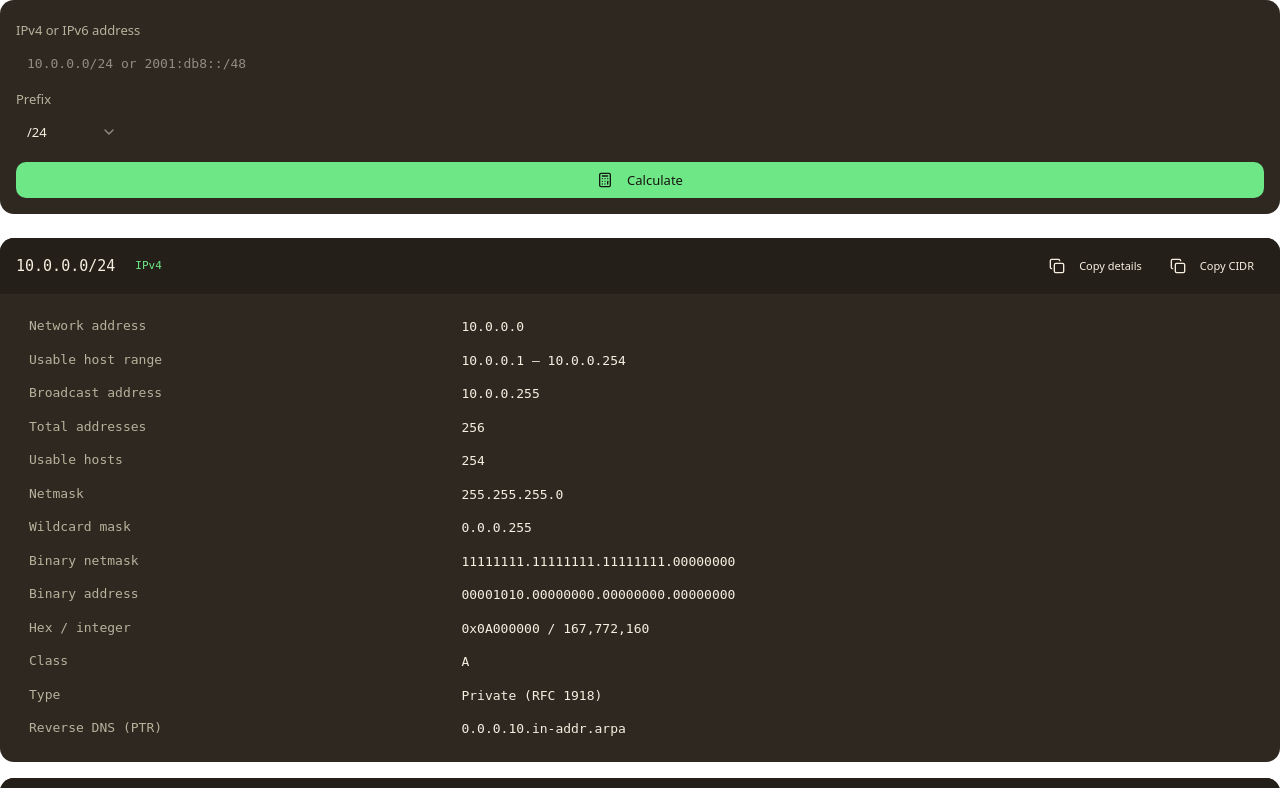
Test: subnet-calculator island › rejects junk with an error message instead of a result
Type "not-an-address" into the field labelled "IPv4 or IPv6 address" at (640, 63), box [16,45,1264,81]
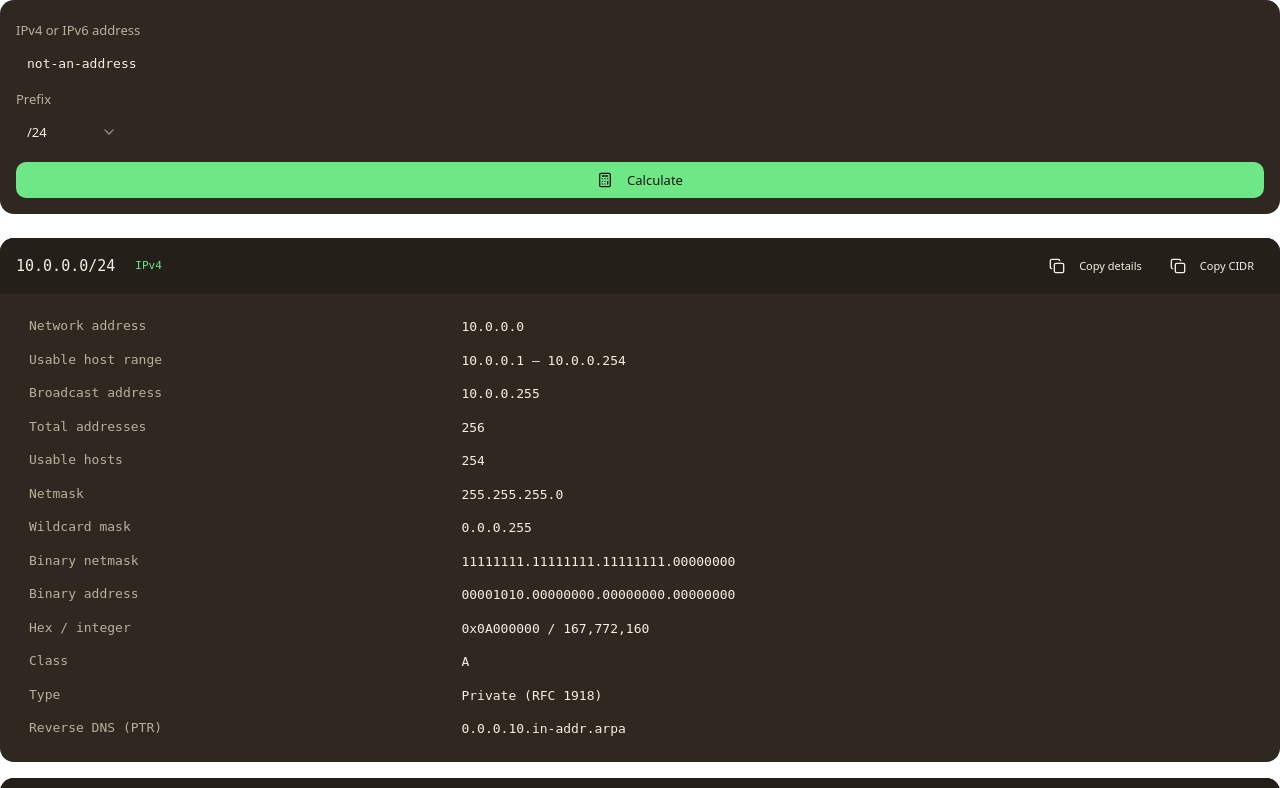
Click the button "Calculate" at (640, 180), box [16,162,1264,198]
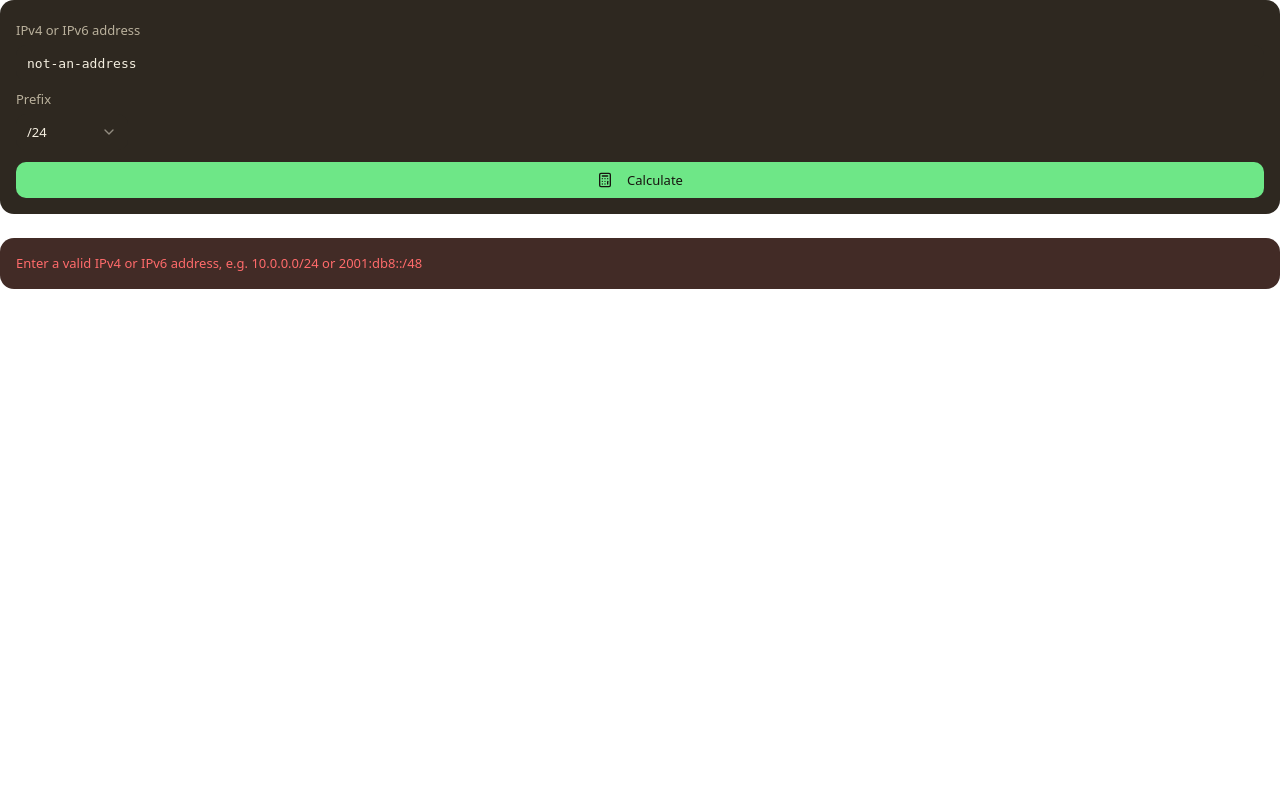
Check: the text "valid IPv4 or IPv6 address" is shown, box [16,254,422,272]
